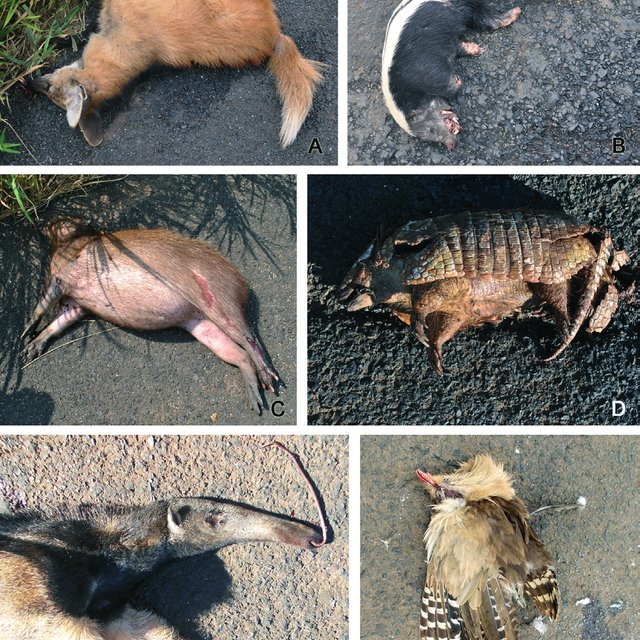LoboGuara: (30, 5, 320, 143)
TamanduaBandeira: (16, 463, 332, 628)
